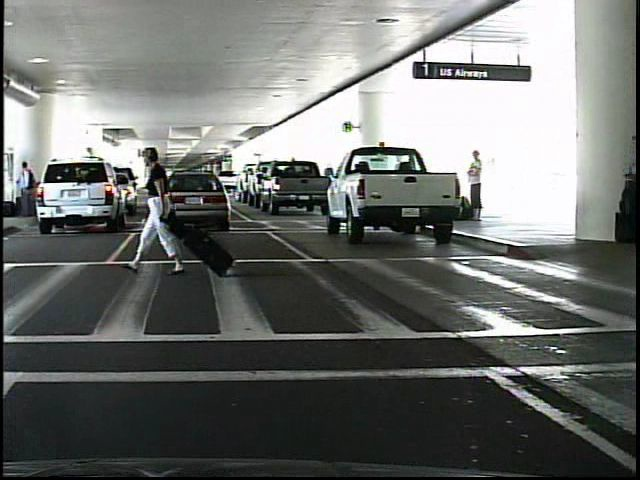person: (132, 144, 188, 276), (462, 152, 496, 224), (20, 159, 39, 221)
